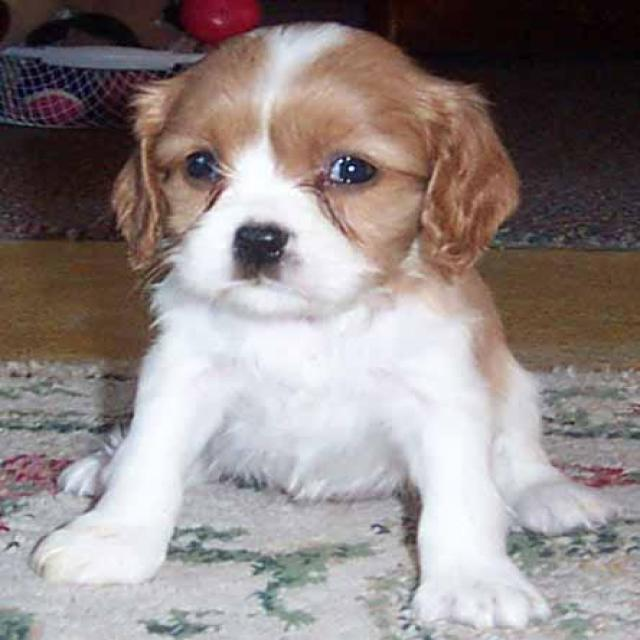blenheim_spaniel: (27, 23, 617, 632)
